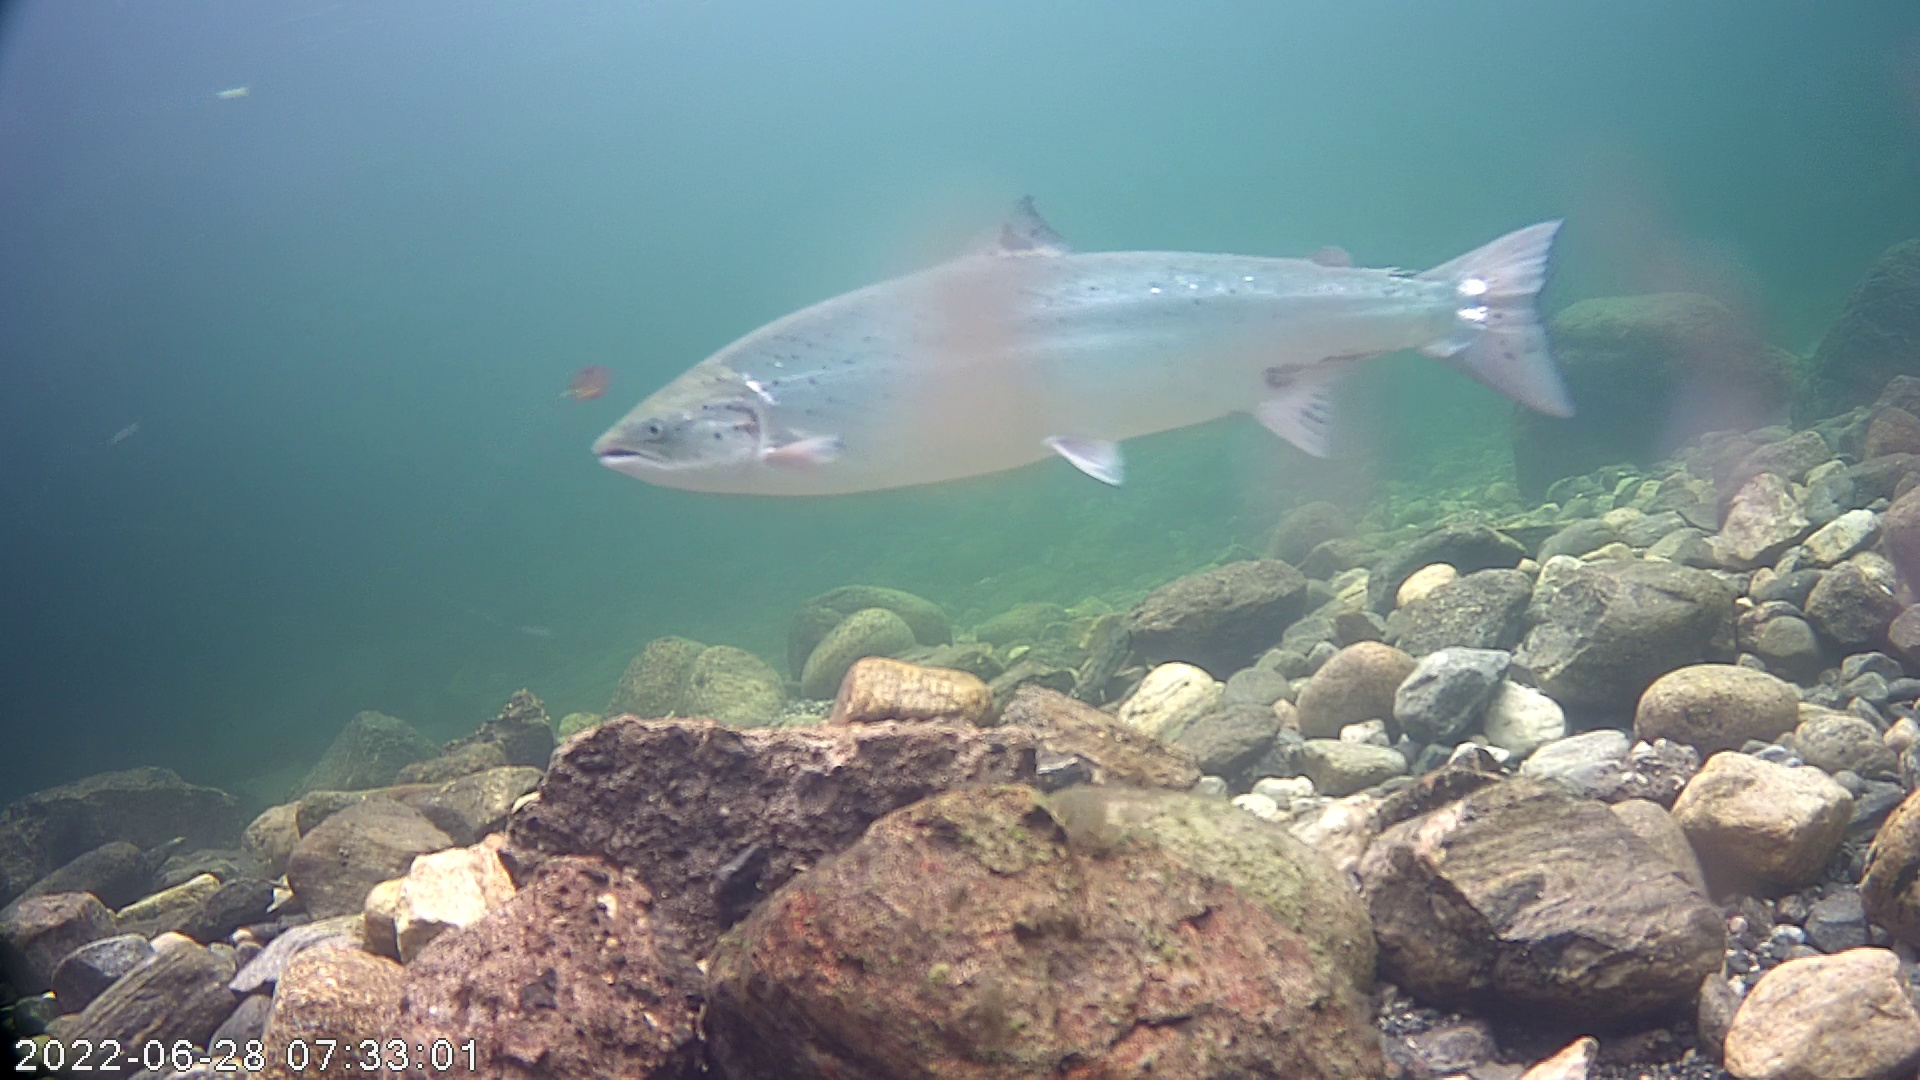salmon: (571, 103, 1604, 550)
